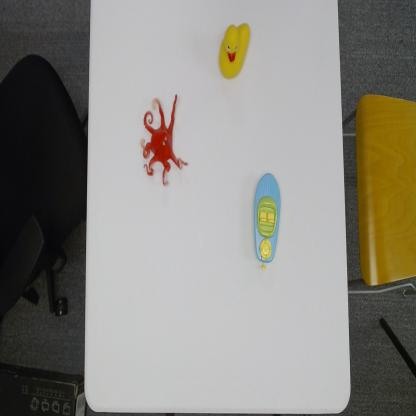Boat: (252, 170, 282, 272)
Duck: (217, 22, 251, 80)
Octopus: (140, 94, 190, 186)
